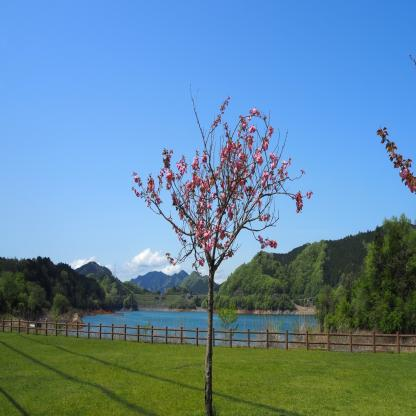YaeSakura: (133, 92, 314, 270), (376, 93, 416, 229)
